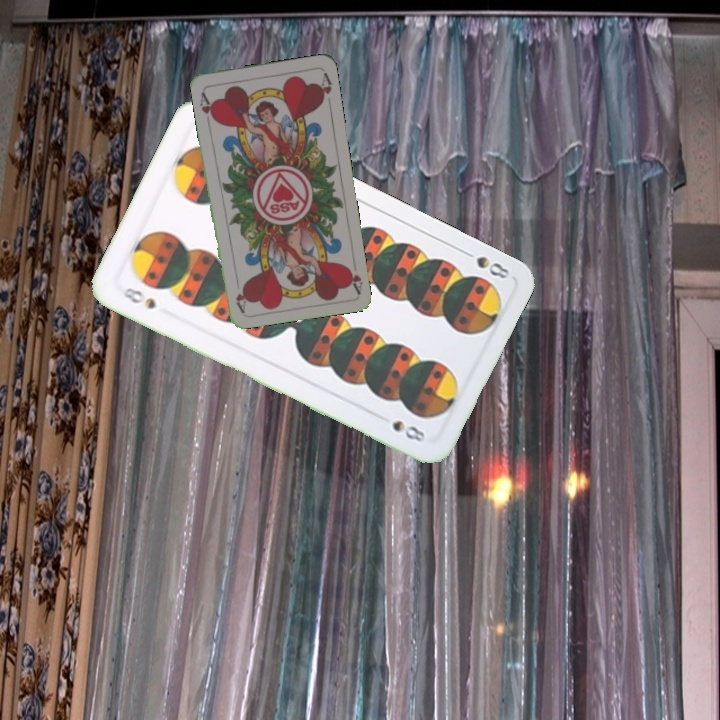HA: (196, 88, 218, 127), (343, 262, 365, 295)
S8: (457, 245, 512, 282), (118, 283, 159, 312)
